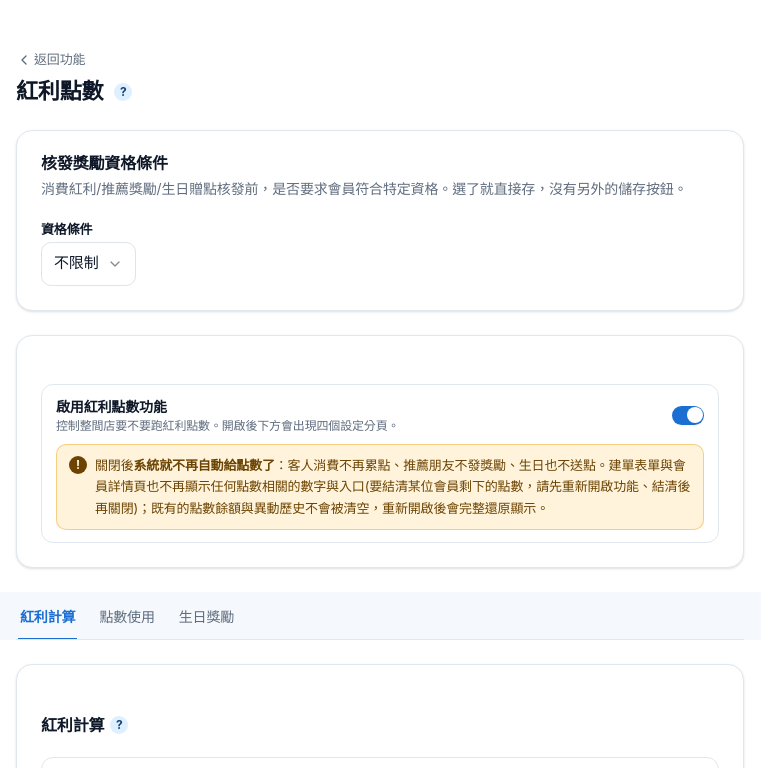
Scenario: §4.5 生日獎勵 › 發送紀錄:8 種 LINE 狀態都顯示對應中文標籤
Click the tab "生日獎勵": (206, 618) [177, 596, 236, 640]
(page scrolled)
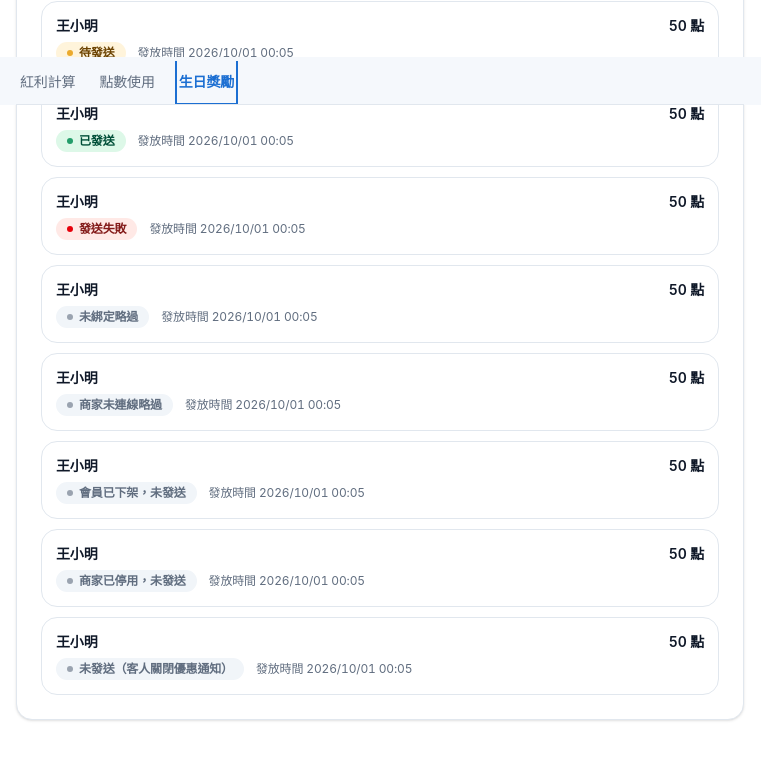
Check: the text "待發送" is shown, box [56, 42, 126, 64]
Check: the text "已發送" is shown, box [56, 130, 126, 152]
Check: the text "發送失敗" is shown, box [56, 218, 137, 240]
